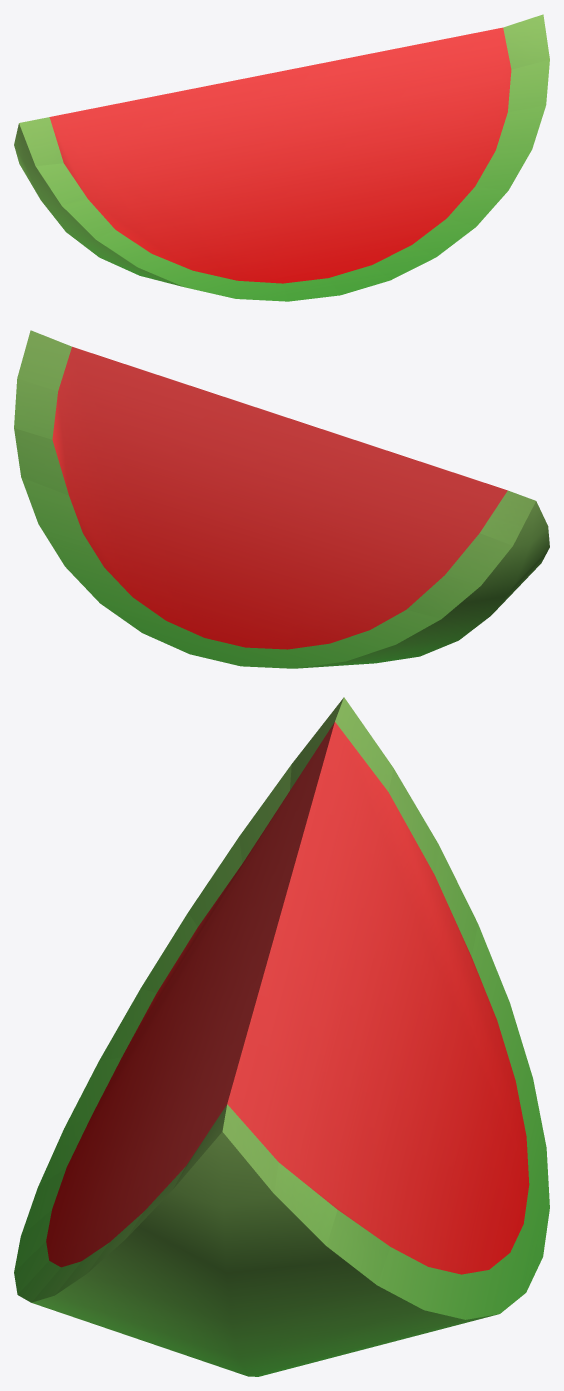
Rendered from watermelon_quart.fbx.
3 views of the same model, one above another, from view 1: azimuth 30°, elevation 25°; view 2: azimuth 150°, elevation 25°; view 3: azimuth 270°, elevation 25° (orthographic). The views are drawn at different scales.
Parts seen in each view (by area): view 1: watermelon_quart; view 2: watermelon_quart; view 3: watermelon_quart.
Part boxes in pixels (box(x1,y1,x2,y2)): watermelon_quart: box(14, 14, 549, 301); watermelon_quart: box(14, 330, 549, 668); watermelon_quart: box(14, 697, 549, 1376).
Bounding box in the file's own units: 140 × 59.42 × 69.1.
